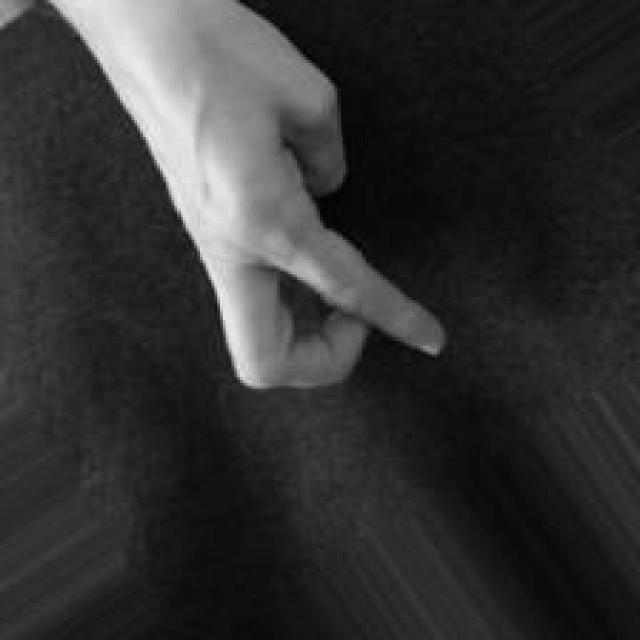P: (46, 0, 450, 400)
